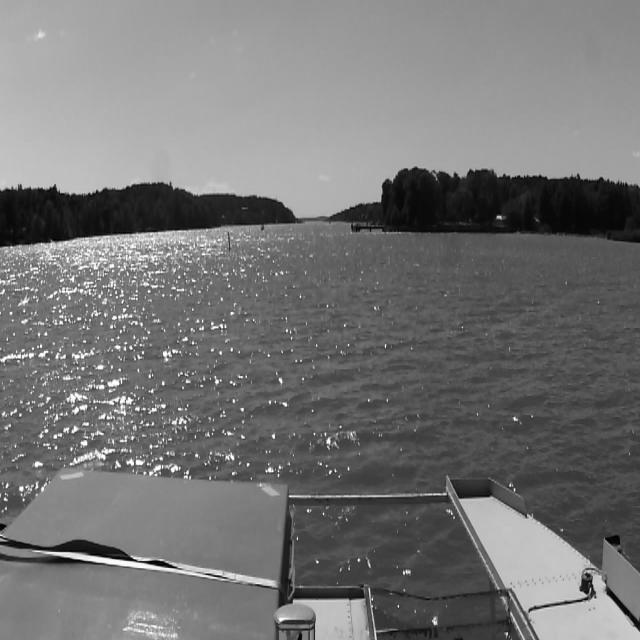buoy: (224, 226, 232, 248)
